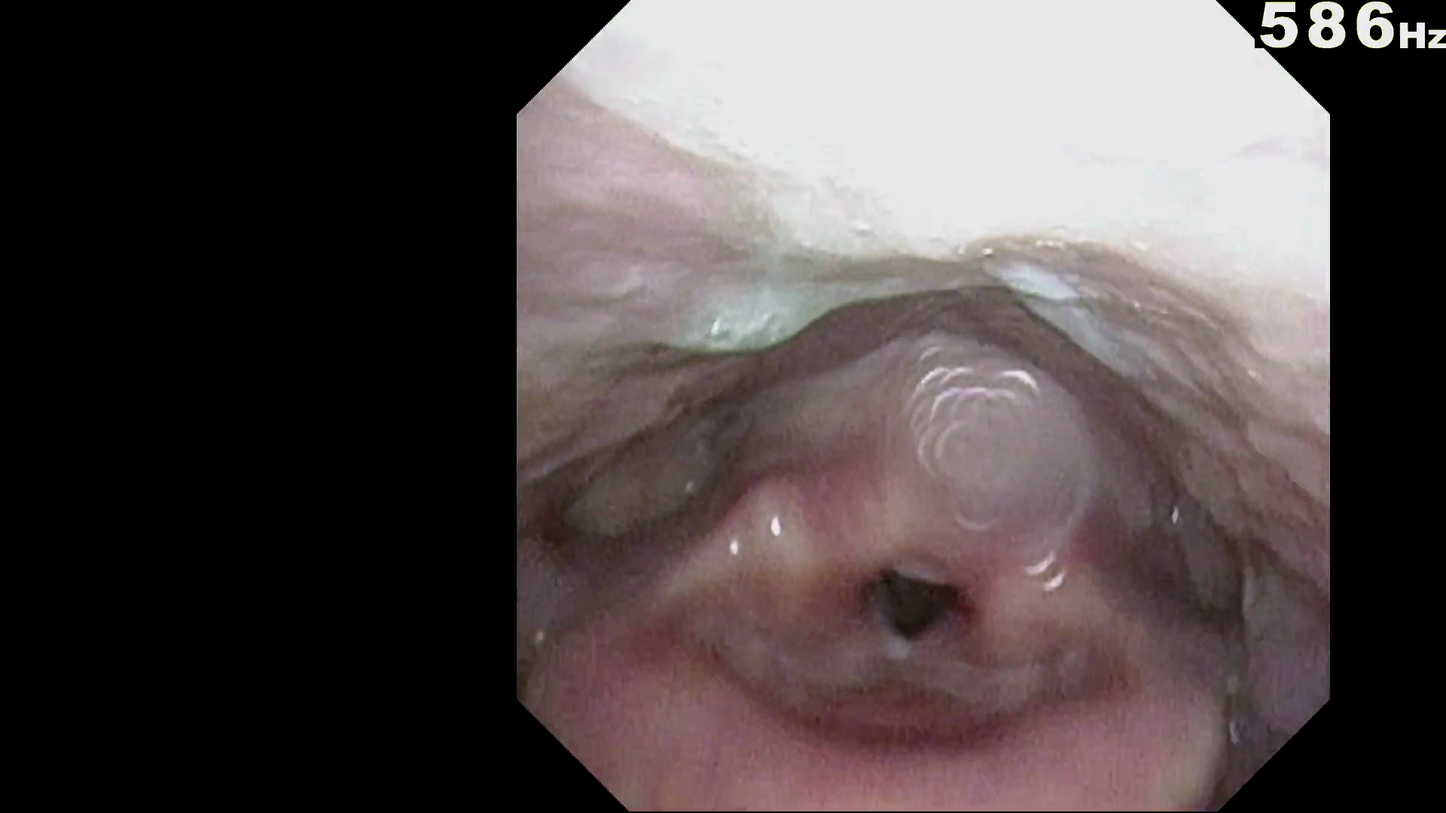epiglottis: (622, 687, 1219, 790)
trachea: (853, 549, 977, 666)
